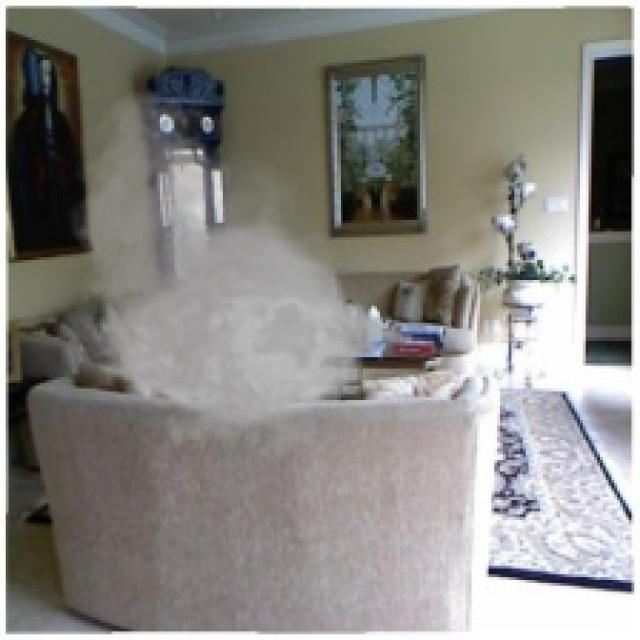smoke: (60, 86, 431, 471)
